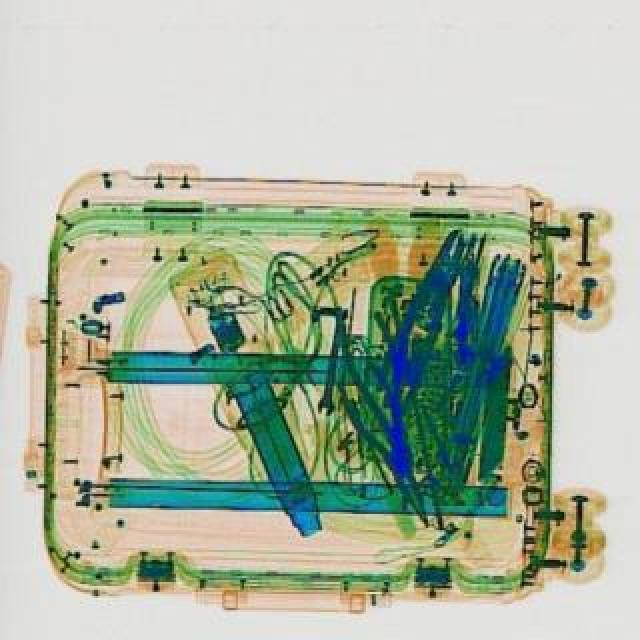wrench: (362, 218, 476, 418), (326, 358, 452, 534), (334, 308, 430, 484)
